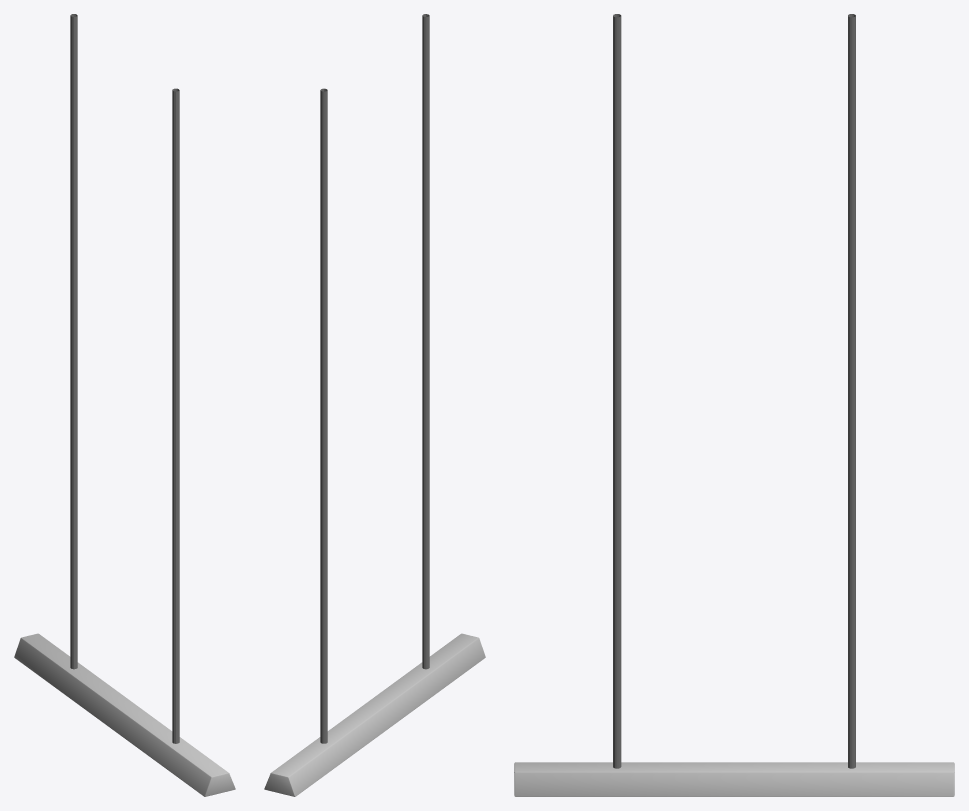
Rendered from light_flourescent_tube.glb.
3 renders of one model, left to right at view 1: azimuth 30°, elevation 25°; view 2: azimuth 150°, elevation 25°; view 3: azimuth 270°, elevation 25°, orthographic. The views are drawn at different scales.
Parts seen in each view (by area): view 1: Light_Flourescent_Tube; view 2: Light_Flourescent_Tube; view 3: Light_Flourescent_Tube.
Boxes of the visible parts, x1,y1,x2,y2 form: Light_Flourescent_Tube: (14,14,235,796); Light_Flourescent_Tube: (264,14,485,796); Light_Flourescent_Tube: (514,14,954,796).
Size of the model in its own units: 0.2828 by 5.81 by 3.
1 material, 1 textured.
